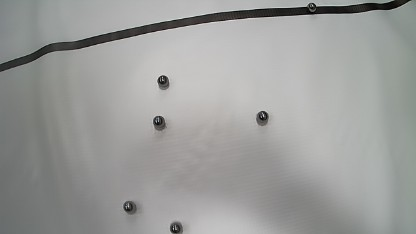ironball: (153, 115, 166, 130), (257, 110, 269, 126), (122, 201, 136, 214), (157, 75, 169, 89), (169, 221, 182, 233), (307, 2, 316, 12)
